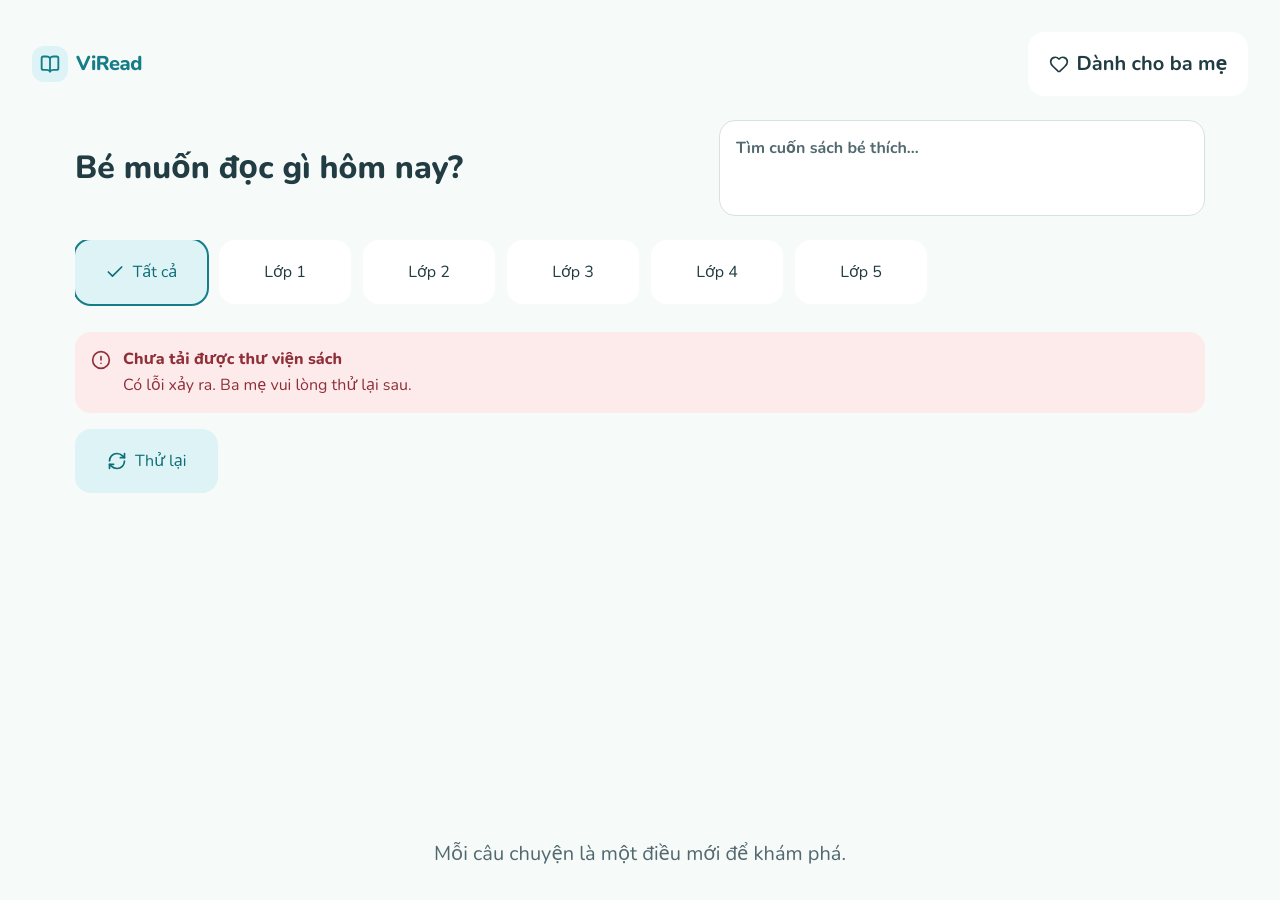
Test case: Books UI with real service HTTP test doubles › recovers from a catalog failure through retry
The width and height of the screenshot is (1280, 900).
Expected: the text "Chưa tải được thư viện sách" is shown, [123,348,342,370]
Click the button "Thử lại": x=147, y=461 [75,429,218,493]
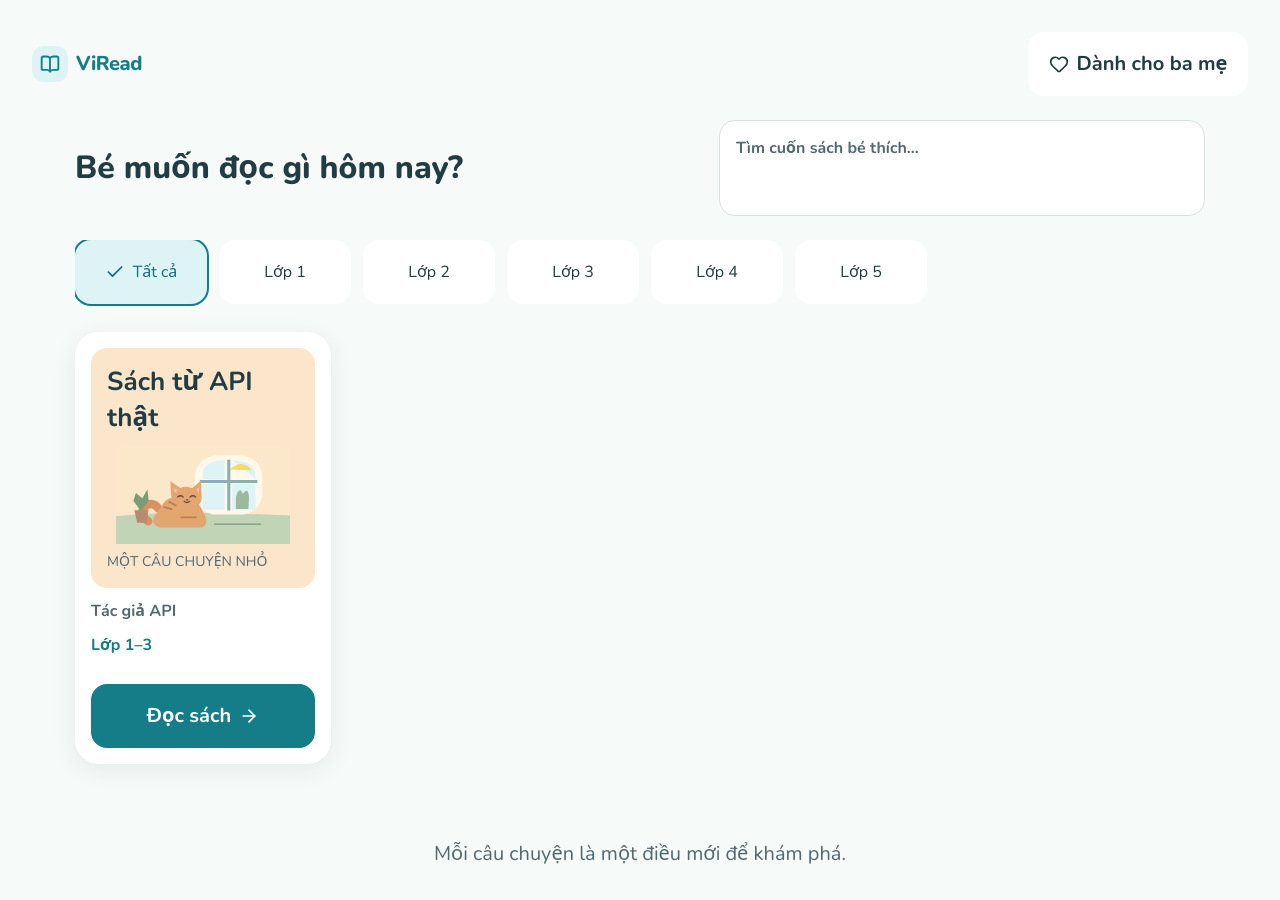
Expected: the heading "Sách từ API thật" is shown, [107,364,253,435]
